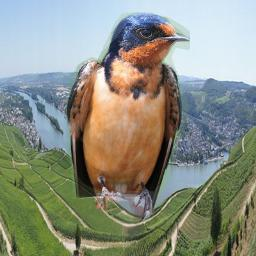Swallow: (66, 12, 190, 225)
